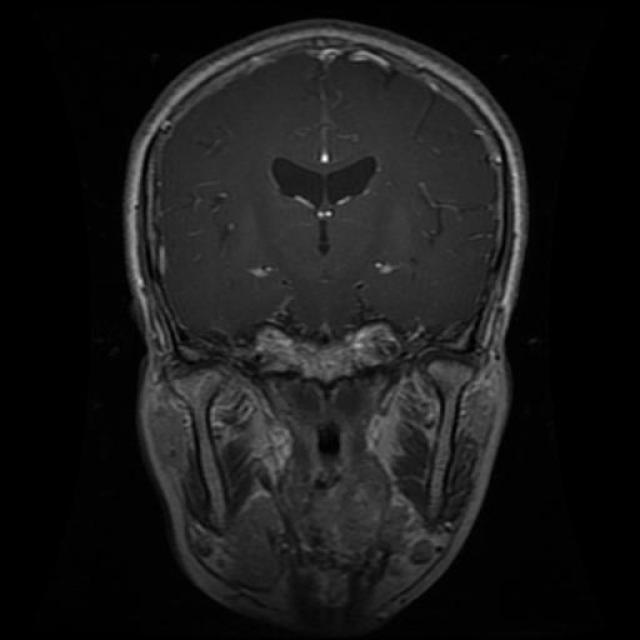glioma: (265, 146, 390, 236)
